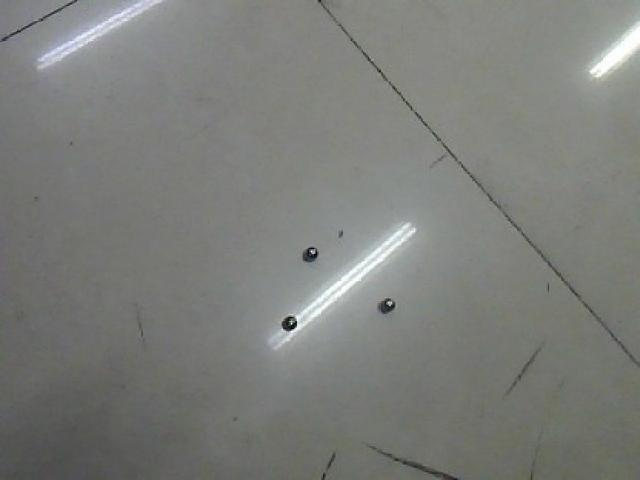steel-ball: (289, 229, 326, 268), (279, 297, 306, 338), (368, 286, 397, 320)
